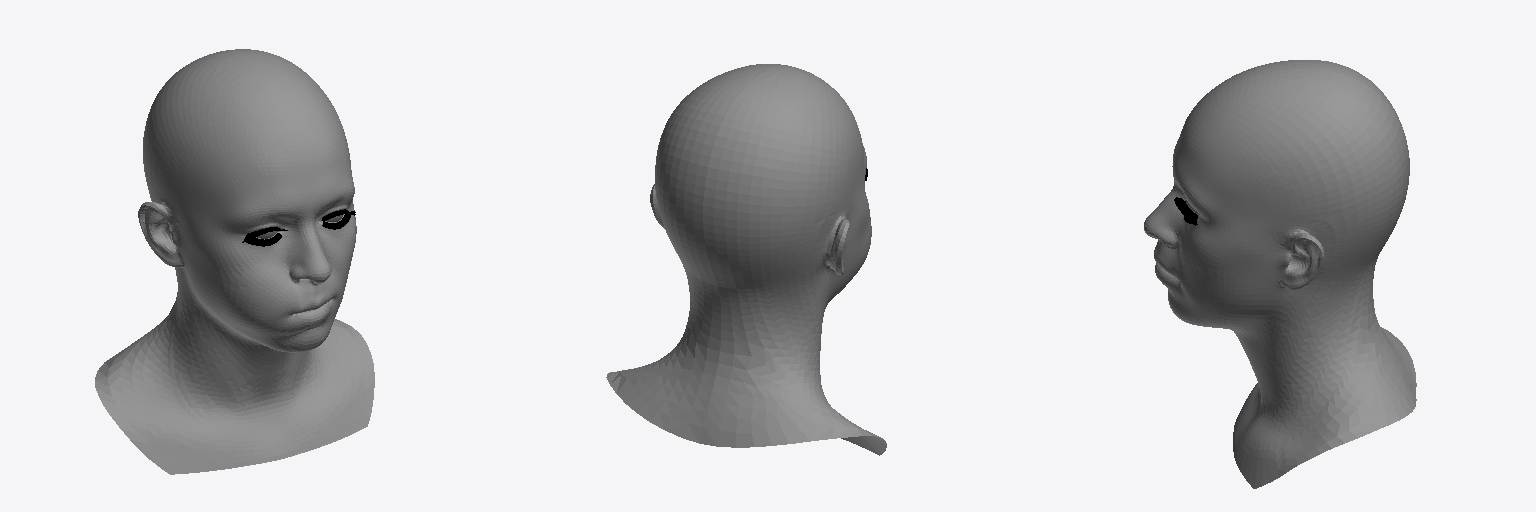
The model's file is cheekPuff_R.obj.
The picture shows the model from 3 angles: view 1: azimuth 30°, elevation 25°; view 2: azimuth 150°, elevation 25°; view 3: azimuth 270°, elevation 25°; orthographic projection.
Bounding box in the file's own units: 24.83 × 33.81 × 22.38.